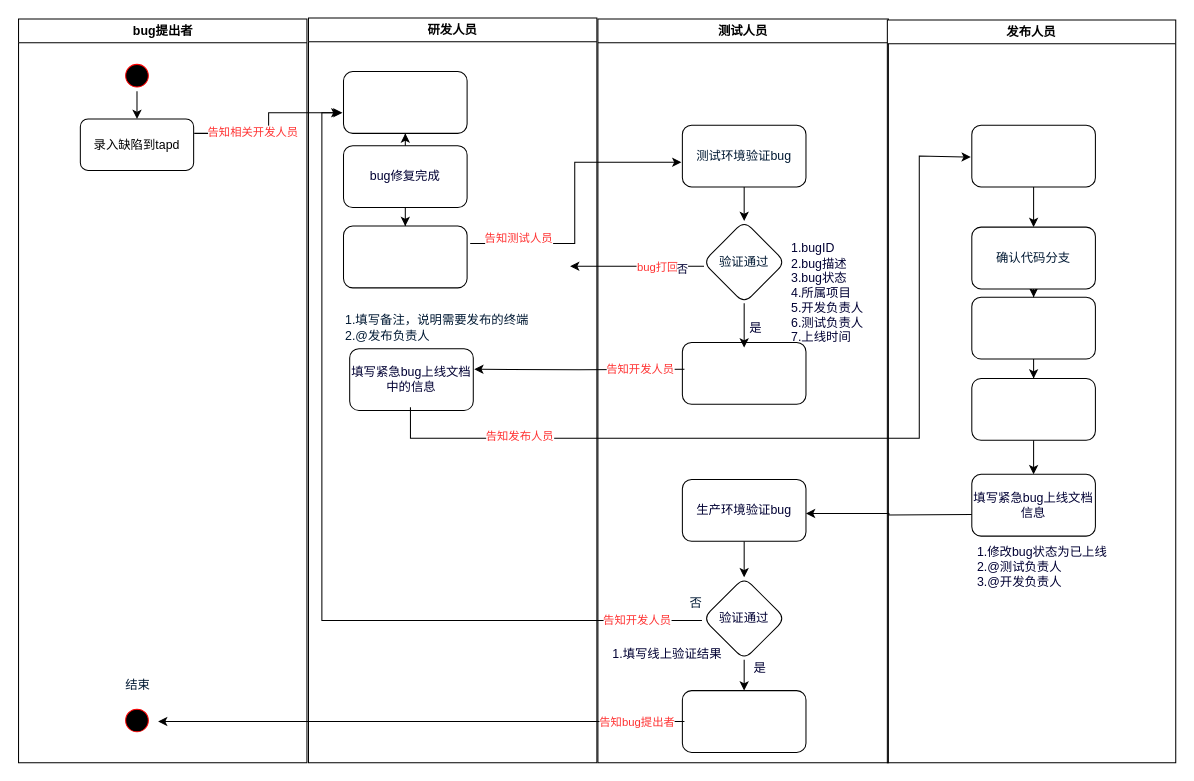
This 1194x781 diagram has some shape labels left out. Here are the shapes that lost their labels. From the top down, the centre of each, then its label:
At [404,102]: "确认bug".
At [1033,155]: "确认发布信息".
At [404,256]: "发布测试环境".
At [1033,327]: "确认代码合并完成".
At [743,372]: "关闭bug，录入紧急bug上线文档".
At [1033,408]: "发布完成".
At [743,721]: "填写紧急bug上线bug信息".
